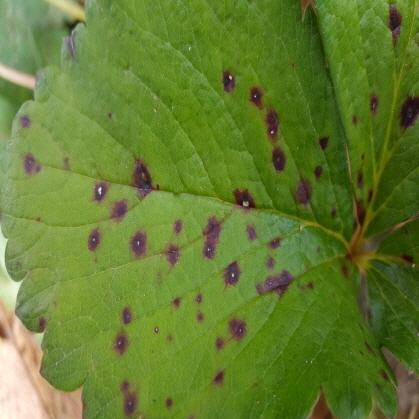Leaf Spot: (0, 0, 400, 418), (313, 0, 418, 234), (362, 214, 418, 375)
